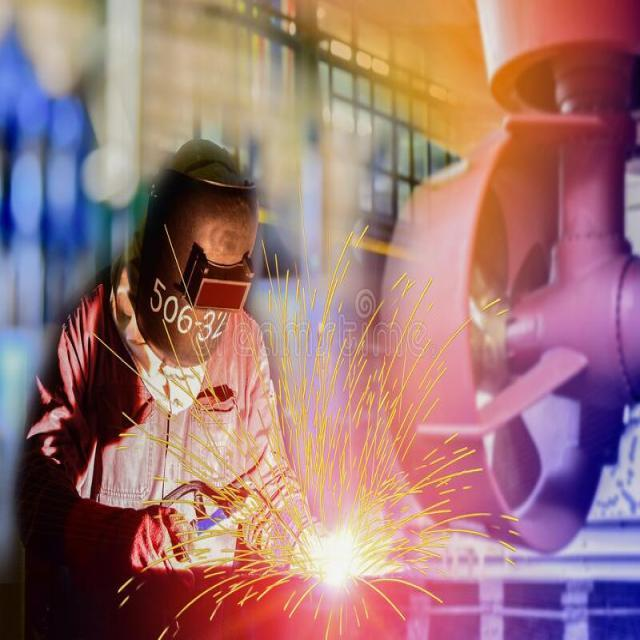with_helmet: (113, 139, 267, 382)
